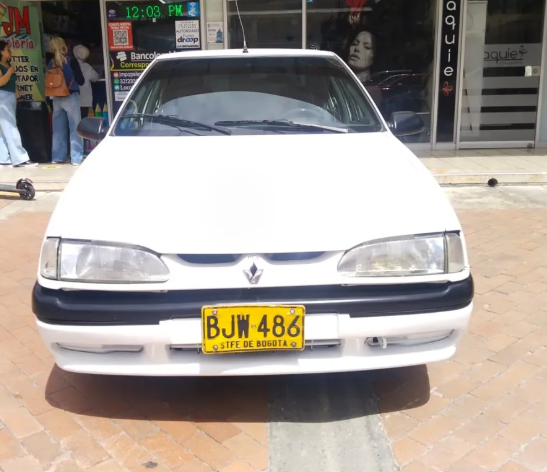placa: (203, 303, 305, 354)
